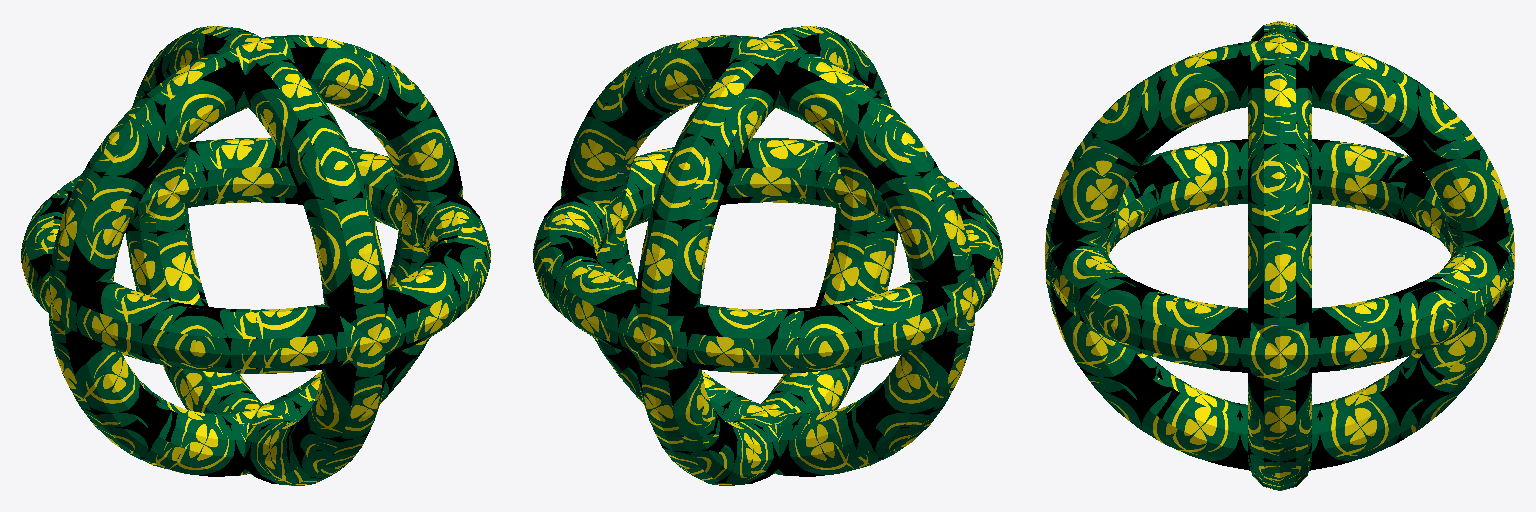
3 views of the same model, side by side, from view 1: azimuth 30°, elevation 25°; view 2: azimuth 150°, elevation 25°; view 3: azimuth 270°, elevation 25° (orthographic).
Visible parts, largest first — view 1: Torus.001_Torus.005; view 2: Torus.001_Torus.005; view 3: Torus.001_Torus.005.
Part boxes in pixels (bbox=[...]): Torus.001_Torus.005: bbox=[21, 26, 490, 485]; Torus.001_Torus.005: bbox=[533, 26, 1002, 485]; Torus.001_Torus.005: bbox=[1045, 21, 1514, 490].
Bounding box in the file's own units: 3.64 × 3.64 × 3.64.
Materials: 1 (1 with a texture image).